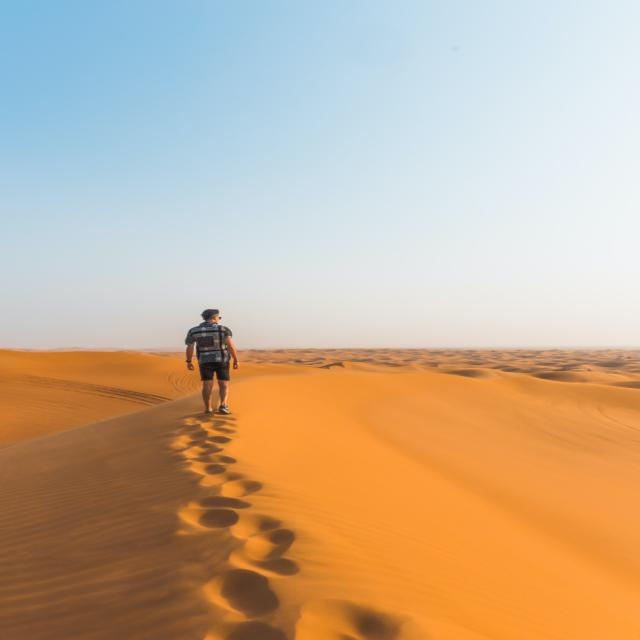human_foot_print: (155, 432, 383, 622), (181, 306, 241, 417)
